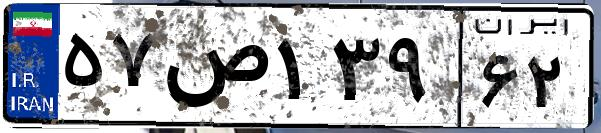1: (270, 28, 330, 110)
2: (525, 38, 570, 115)
3: (330, 28, 385, 110)
5: (57, 26, 110, 100)
6: (475, 38, 525, 113)
7: (110, 28, 158, 98)
9: (385, 28, 445, 110)
ص: (158, 20, 270, 120)
